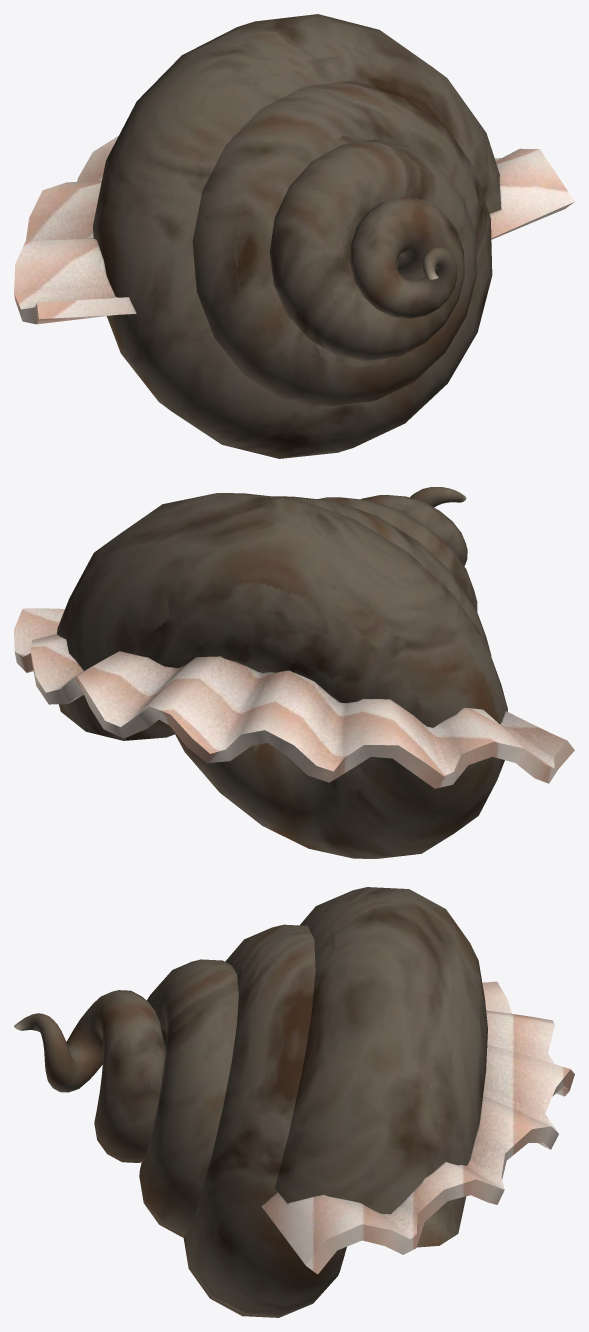
File: shells.glb
The picture shows the model from 3 angles, top to bottom: view 1: azimuth 30°, elevation 25°; view 2: azimuth 150°, elevation 25°; view 3: azimuth 270°, elevation 25°; orthographic projection. The views are drawn at different scales.
Visible parts, largest first — view 1: Shell1, Shell0; view 2: Shell1, Shell0; view 3: Shell1, Shell0.
Boxes of the visible parts, x1,y1,x2,y2 form: Shell1: (92,14,501,458); Shell0: (14,136,574,324); Shell1: (57,487,507,858); Shell0: (14,608,574,788); Shell1: (14,887,487,1317); Shell0: (261,981,574,1274).
Bounding box in the file's own units: 0.216 × 0.1463 × 0.1871.
2 materials, 2 textured.
